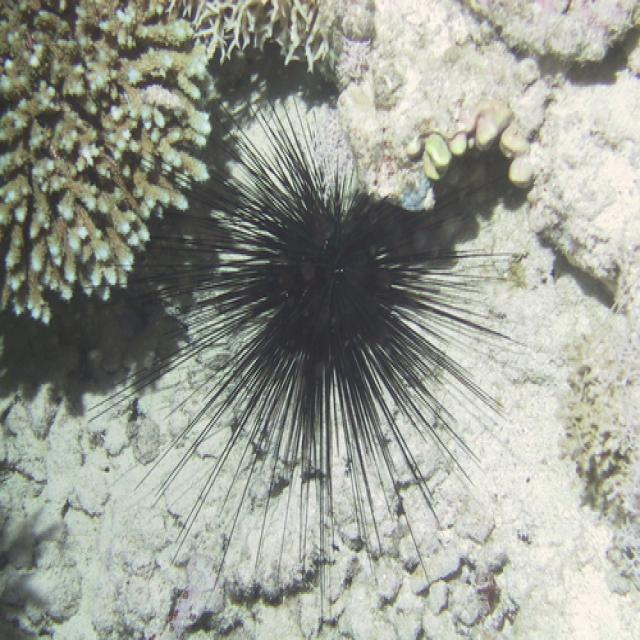Urchin: (87, 94, 527, 601)
